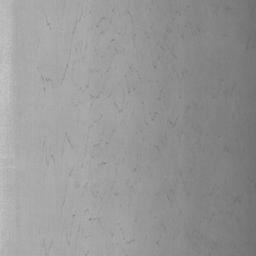Silk spot: (64, 132, 74, 149)
